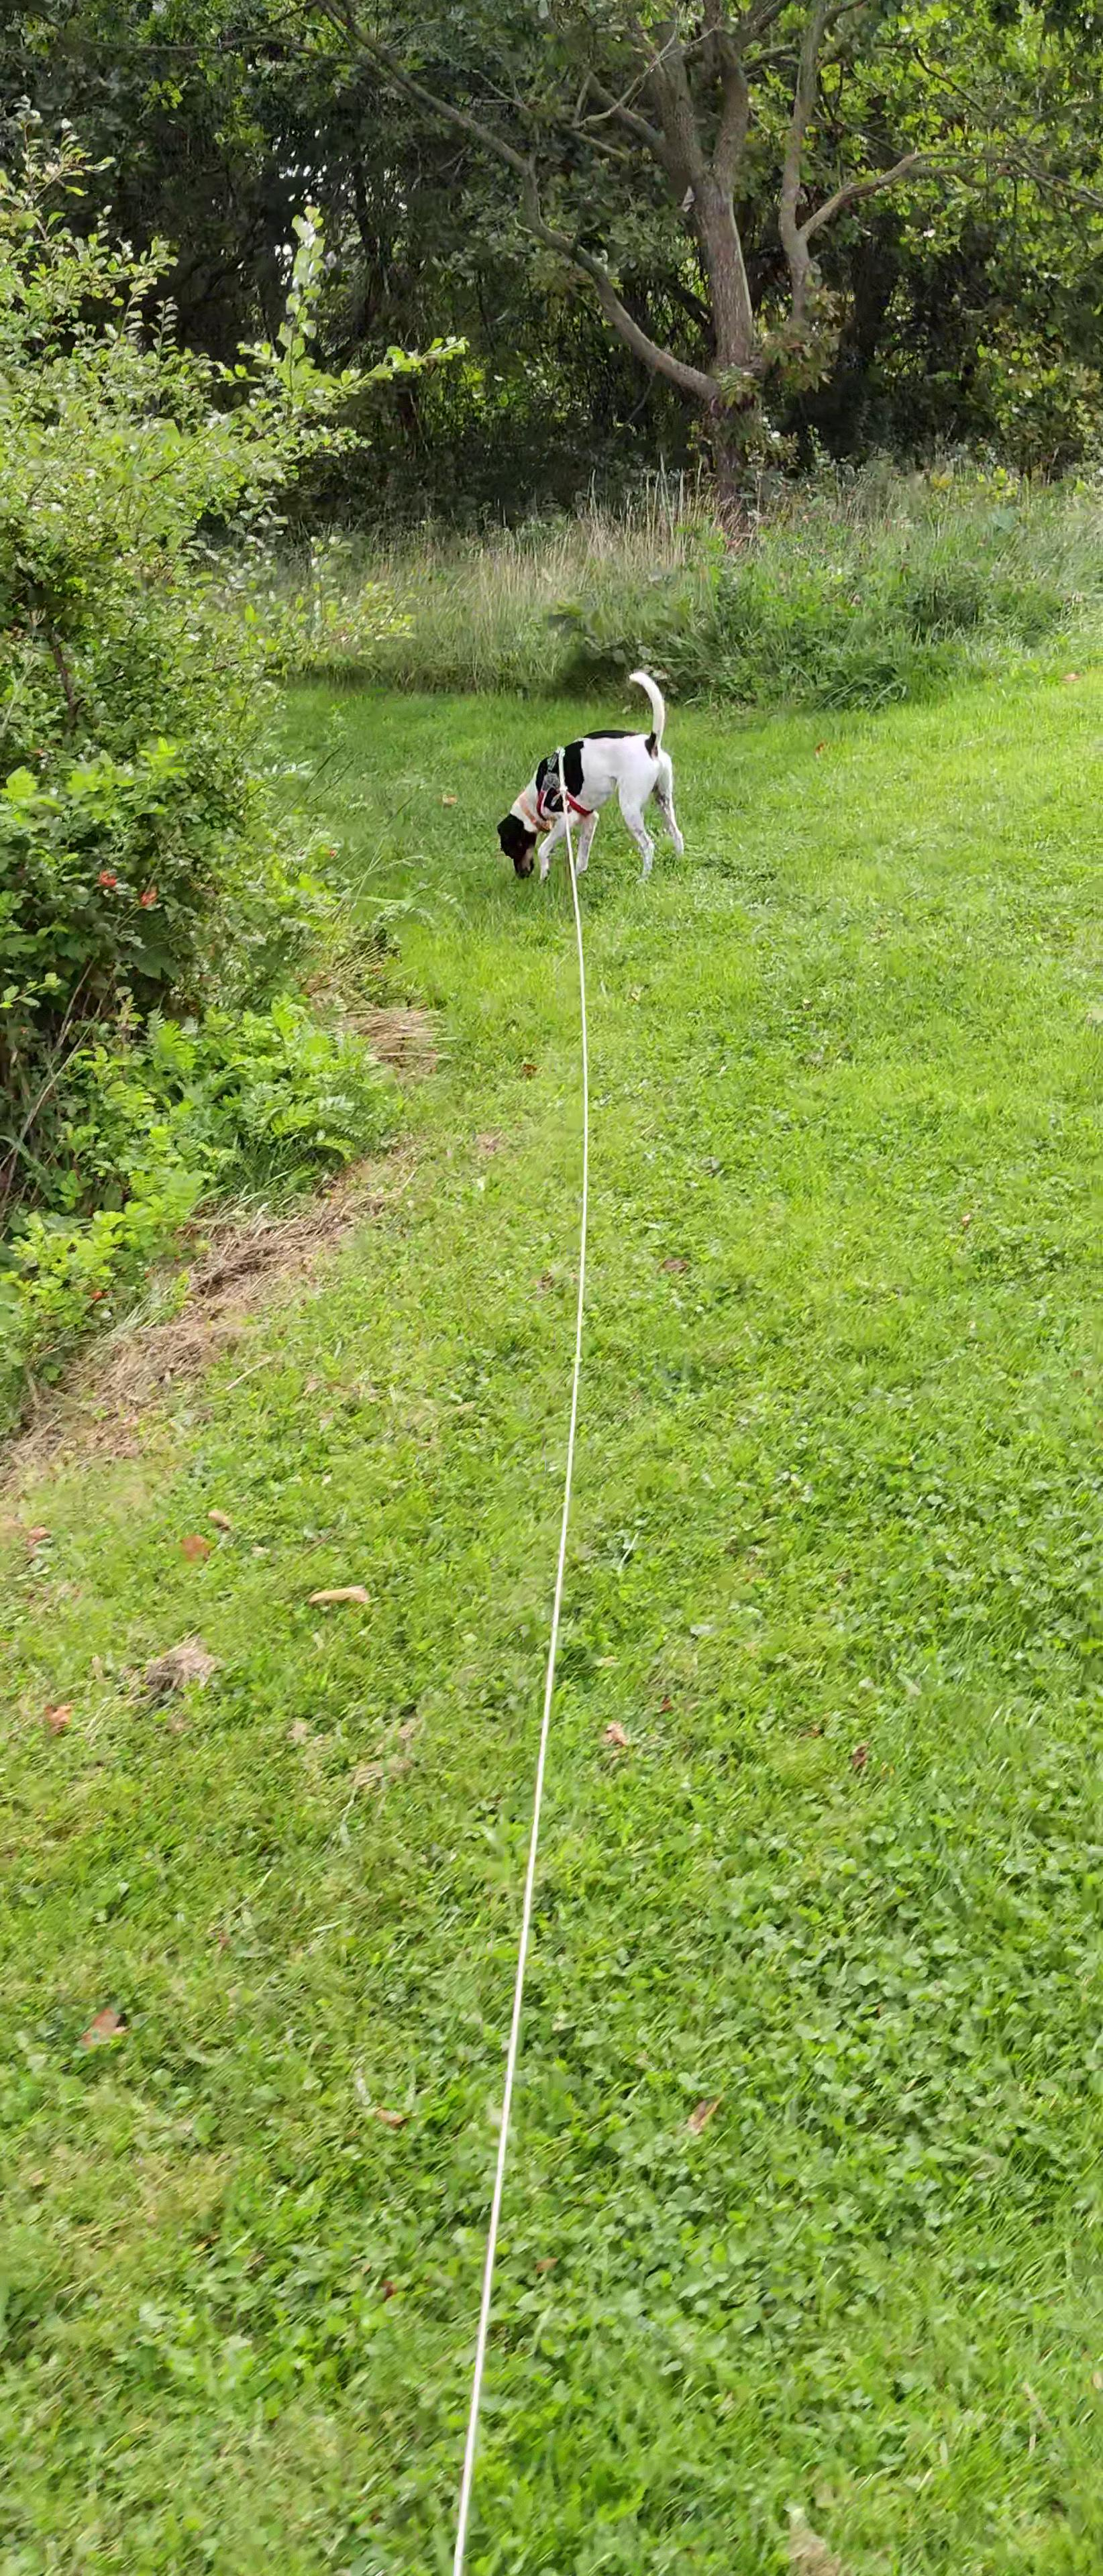Dog: (496, 669, 689, 885)
